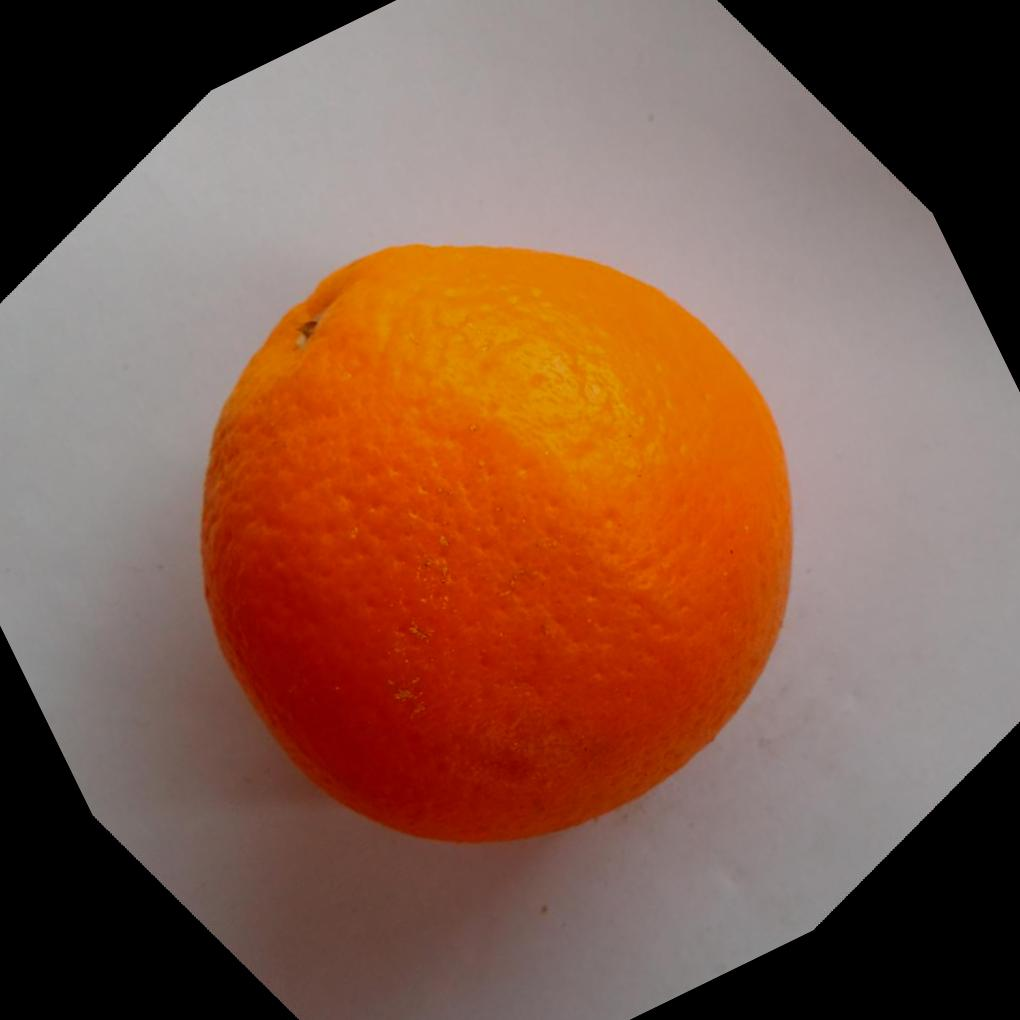FreshGuava: (195, 238, 793, 843)
